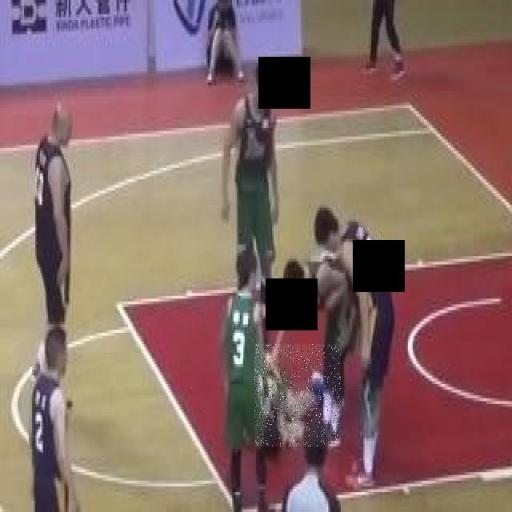Fall: (254, 344, 341, 446)
